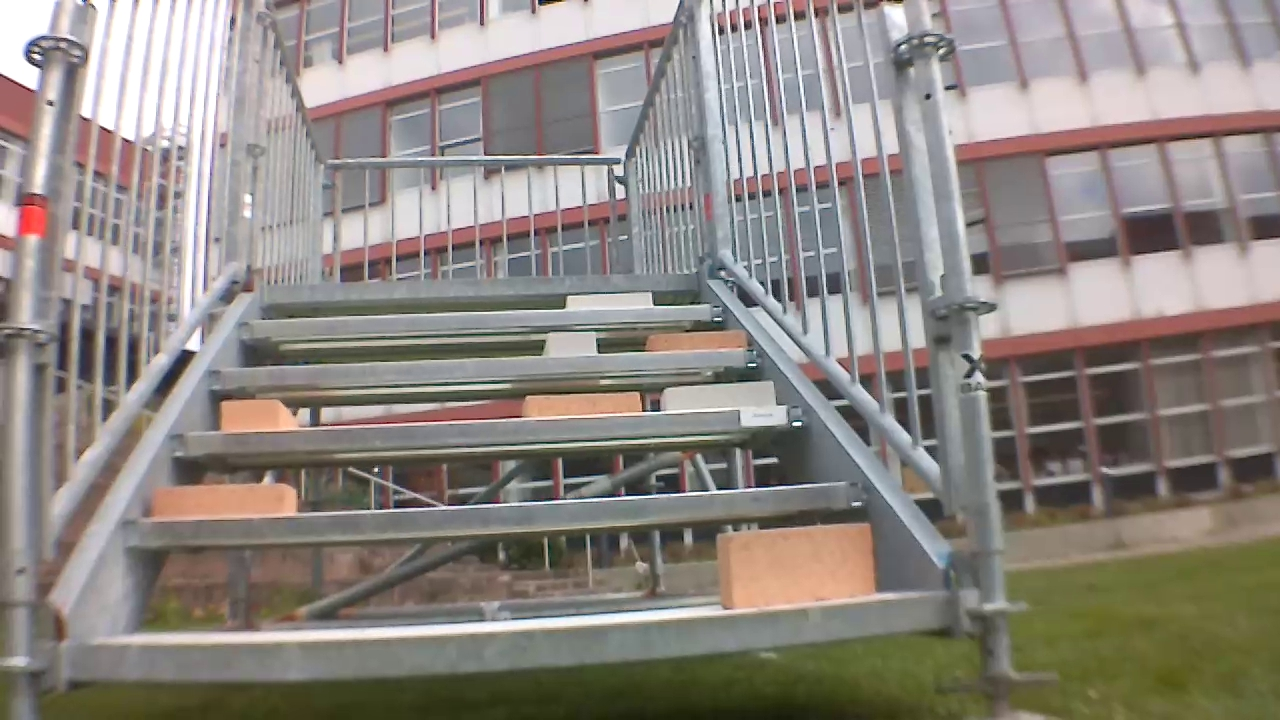brick: (715, 524, 881, 612), (148, 487, 292, 522), (660, 379, 783, 412), (522, 389, 634, 420), (645, 326, 757, 351), (215, 396, 292, 431), (559, 289, 656, 314), (548, 335, 595, 353)
edge: (70, 584, 954, 686), (114, 481, 869, 546), (167, 403, 814, 454), (240, 302, 722, 344), (266, 266, 705, 302), (208, 365, 772, 367)
stairs: (16, 0, 1015, 713)
steps: (43, 271, 943, 692)
